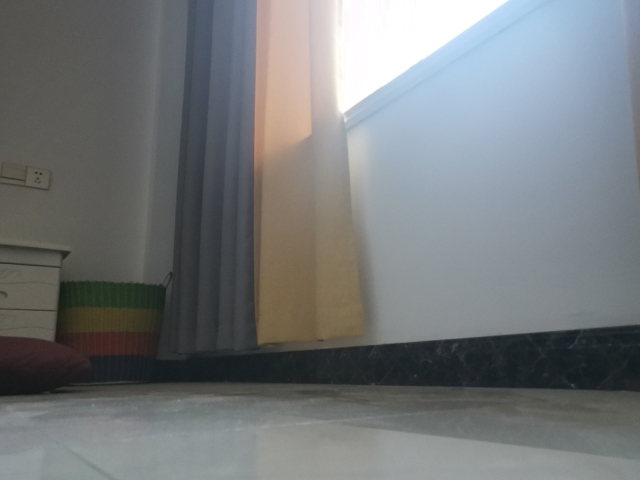cabinet: (1, 239, 75, 345)
curtain: (153, 1, 368, 365)
